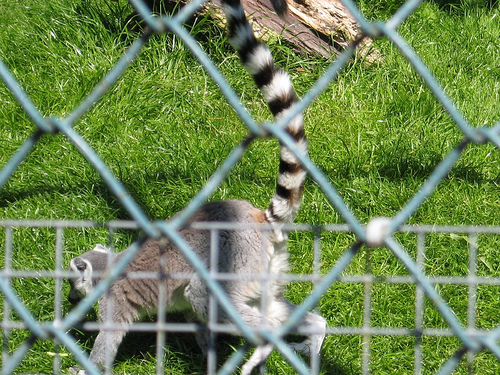cat: (68, 3, 327, 374)
